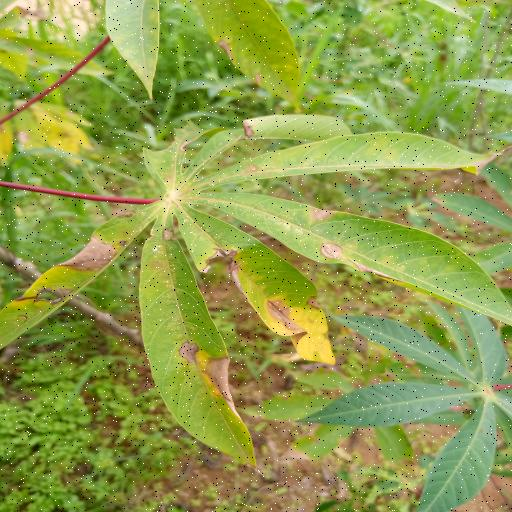Cassava_Brown_Leaf_Spot: (5, 108, 512, 467)
